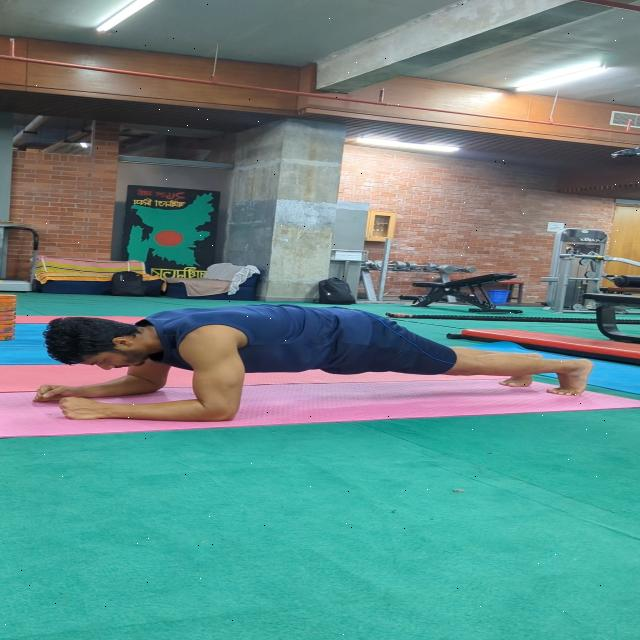Normal_Plunk: (18, 291, 604, 435)
